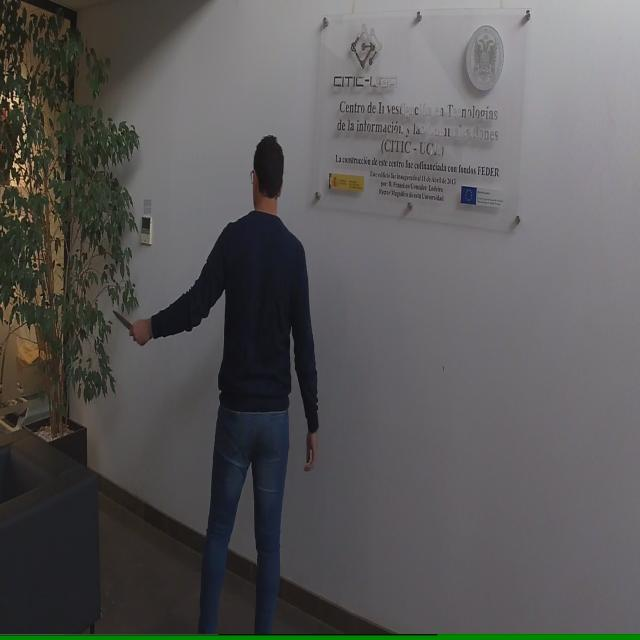knife: (111, 305, 145, 347)
